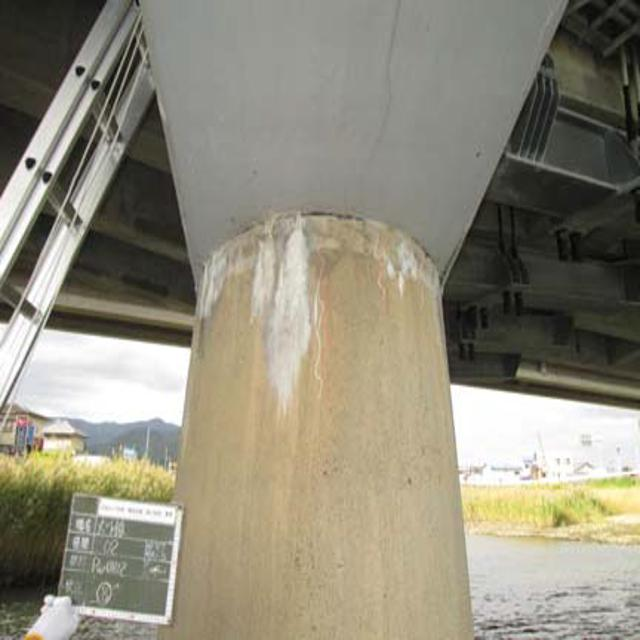freelime: (246, 210, 327, 404), (350, 207, 451, 306), (180, 222, 243, 327)
